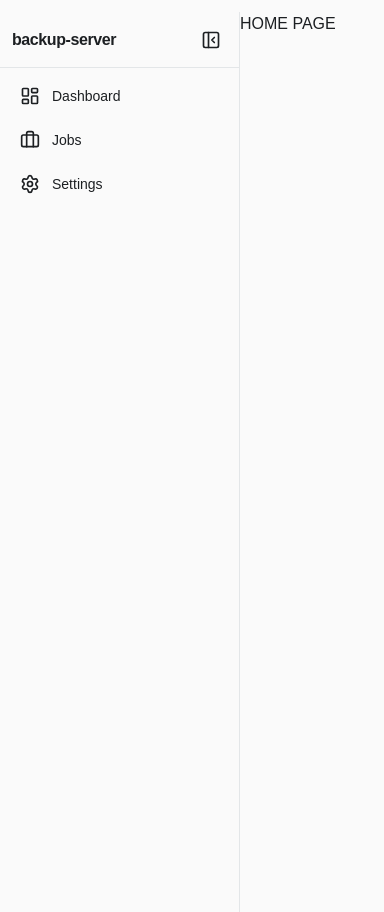
Layout › clicking a nav link routes to the matching page
Step 1. Click the link "Jobs" → x=51, y=140, box [20,130,82,150]
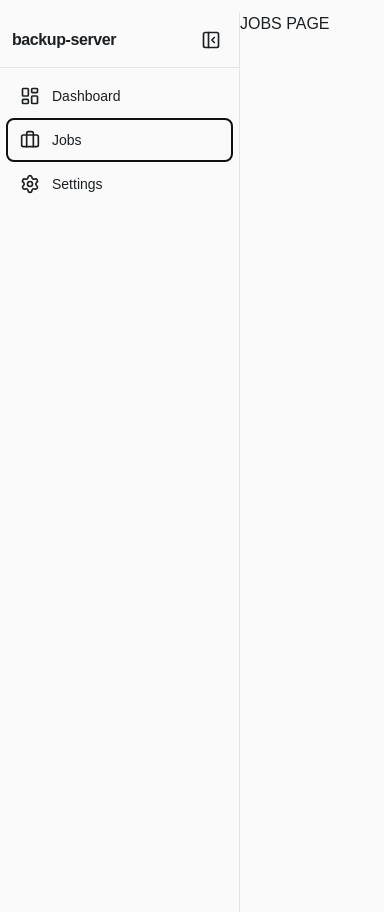
Result: the text "JOBS PAGE" is shown at [240,15,330,32]
Step 2. Click the link "Settings" → x=61, y=184, box [20,174,103,194]
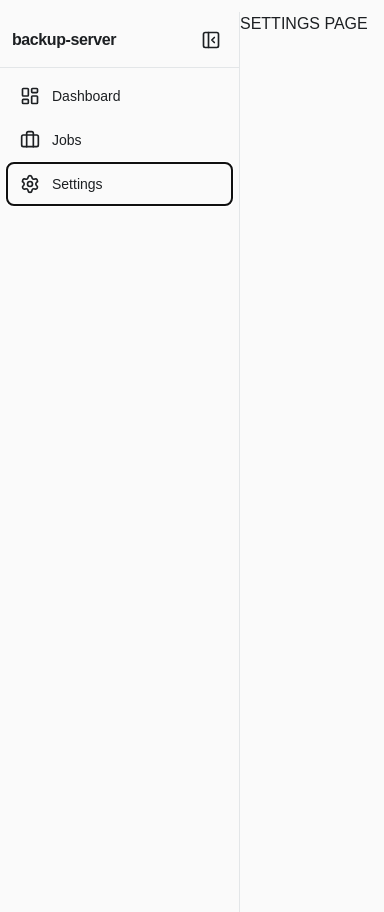
Result: the text "SETTINGS PAGE" is shown at [240,15,368,32]
